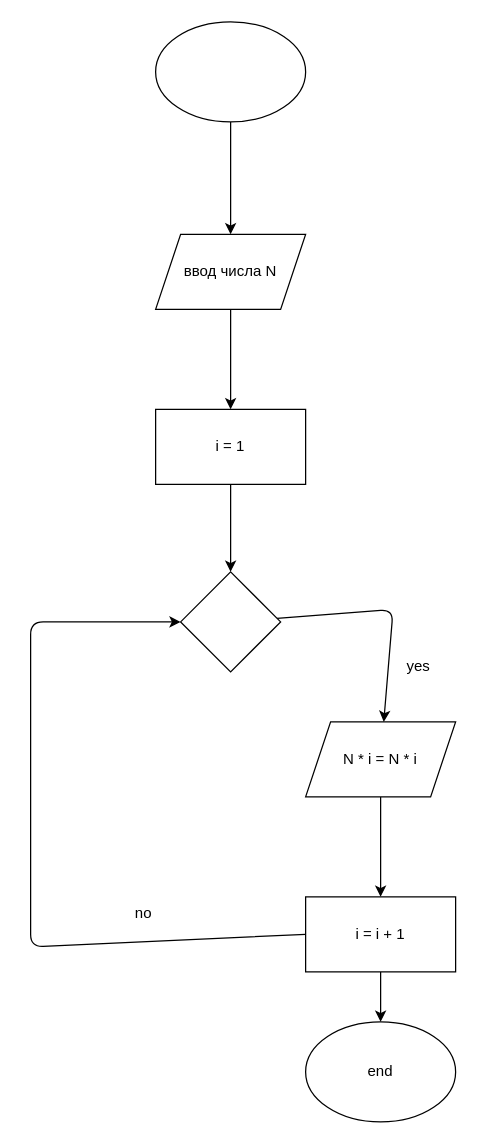
Some shapes in this 478 by 1144 pixel diagram are drawn without their labels. The centre of each missing label's shape, as x and y in pixels:
i <= 10?: the point at 230,621
начало: the point at 230,71
